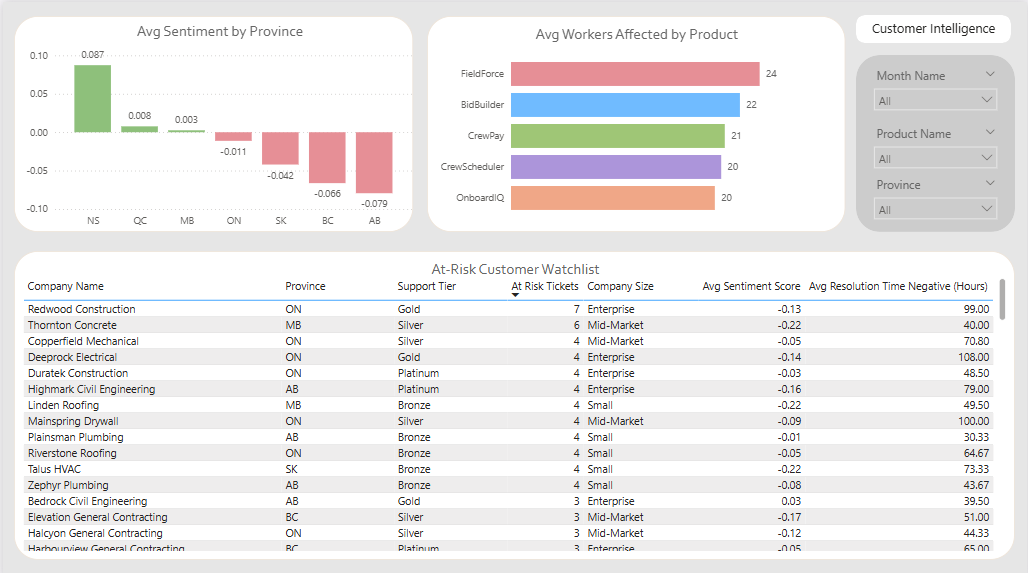

Layout of this report page (visuals, bound fields, positions):
{"tool":"powerbi","page":{"name":"Customer Intelligence","canvas":[1280,720],"ordinal":2},"visuals":[{"type":"shape","box":[1066.2,66.2,198.8,221.2],"z":0},{"type":"columnChart","title":"Avg Sentiment by Province","fields":{"Category":["DIM_CUSTOMER.PROVINCE"],"Y":["FACT_SUPPORT_TICKET._Avg Sentiment Score"]},"box":[13.8,17.5,498.8,270],"z":1000},{"type":"tableEx","title":"At-Risk Customer Watchlist","fields":{"Values":["DIM_CUSTOMER.COMPANY_NAME","DIM_CUSTOMER.PROVINCE","DIM_CUSTOMER.SUPPORT_TIER","FACT_SUPPORT_TICKET._At Risk Tickets","DIM_CUSTOMER.COMPANY_SIZE","FACT_SUPPORT_TICKET._Avg Sentiment Score","FACT_SUPPORT_TICKET._Avg Resolution Time Negative (Hours)"]},"box":[13.8,311.2,1251.2,386.2],"z":3000},{"type":"clusteredBarChart","title":"Avg Workers Affected by Product","fields":{"Category":["DIM_PRODUCT.PRODUCT_NAME"],"Y":["FACT_SUPPORT_TICKET._Avg Workers Affected"]},"box":[530,17.5,522.5,270],"z":4000},{"type":"slicer","fields":{"Values":["FACT_SUPPORT_TICKET.Month Name"]},"box":[1078.8,76.2,173.8,63.8],"z":5000},{"type":"slicer","fields":{"Values":["DIM_PRODUCT.PRODUCT_NAME"]},"box":[1078.8,148.8,173.8,63.8],"z":6000},{"type":"shape","box":[1066.2,16.2,193.8,35],"z":8000},{"type":"textbox","box":[1066.2,16.2,193.8,35],"z":9000},{"type":"slicer","fields":{"Values":["DIM_CUSTOMER.PROVINCE"]},"box":[1078.8,212.5,173.8,63.8],"z":9001}]}

Visuals, with their boxes in screenshot pixels (x1, y1, x2, y2), scaled from the page's 1280x720 canvas onto the 1028x573 screenshot:
shape: Rect(856, 53, 1016, 229)
"Avg Sentiment by Province" columnChart: Rect(11, 14, 412, 229)
"At-Risk Customer Watchlist" tableEx: Rect(11, 248, 1016, 555)
"Avg Workers Affected by Product" clusteredBarChart: Rect(426, 14, 845, 229)
slicer - FACT_SUPPORT_TICKET.Month Name: Rect(866, 61, 1006, 111)
slicer - DIM_PRODUCT.PRODUCT_NAME: Rect(866, 118, 1006, 169)
shape: Rect(856, 13, 1012, 41)
textbox: Rect(856, 13, 1012, 41)
slicer - DIM_CUSTOMER.PROVINCE: Rect(866, 169, 1006, 220)
